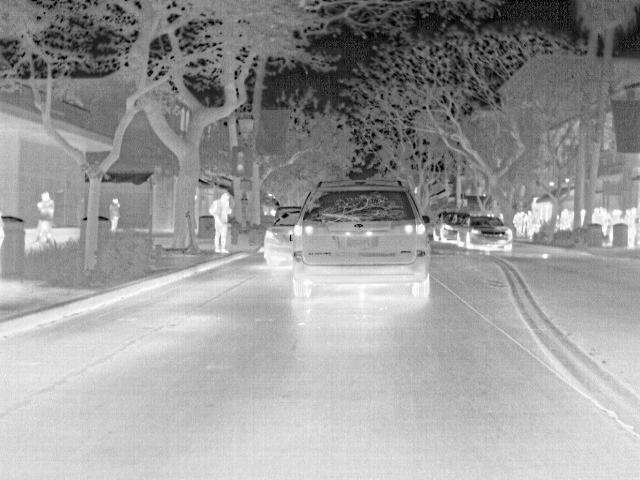car: (292, 177, 434, 300), (262, 204, 302, 264), (456, 215, 515, 254), (435, 213, 470, 244)
person: (212, 189, 235, 255), (36, 190, 58, 246), (110, 194, 123, 234)
